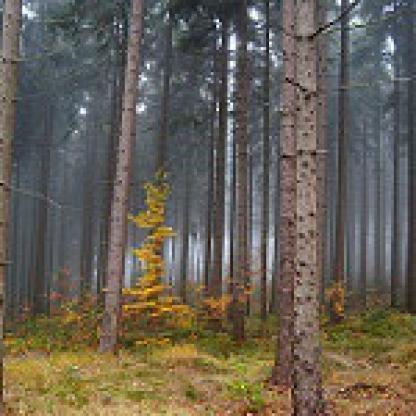trunk: (94, 0, 147, 361), (288, 0, 324, 413), (0, 0, 25, 341), (327, 3, 355, 297), (225, 41, 252, 344), (25, 102, 55, 310), (258, 5, 274, 319), (391, 58, 408, 311), (152, 17, 174, 169), (372, 114, 388, 288), (358, 122, 372, 297), (175, 166, 191, 300), (405, 78, 413, 324), (204, 133, 216, 294)
